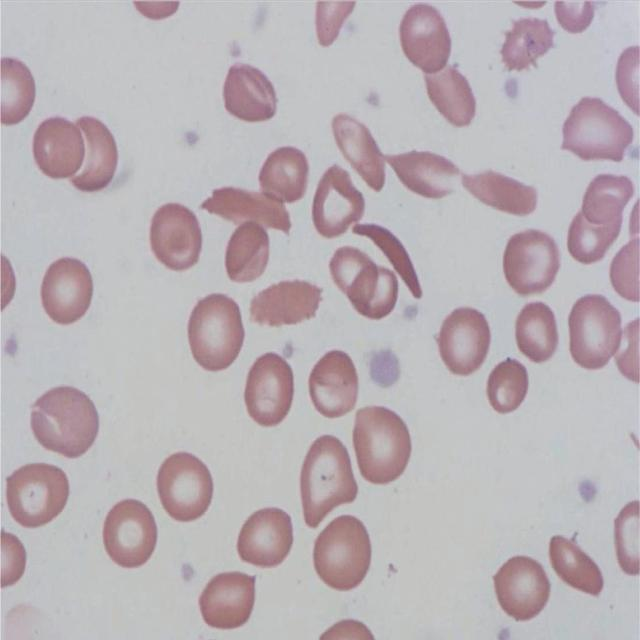RBC: (95, 496, 168, 581), (153, 448, 221, 530)
sickle cell: (342, 201, 431, 304), (197, 180, 300, 244)
